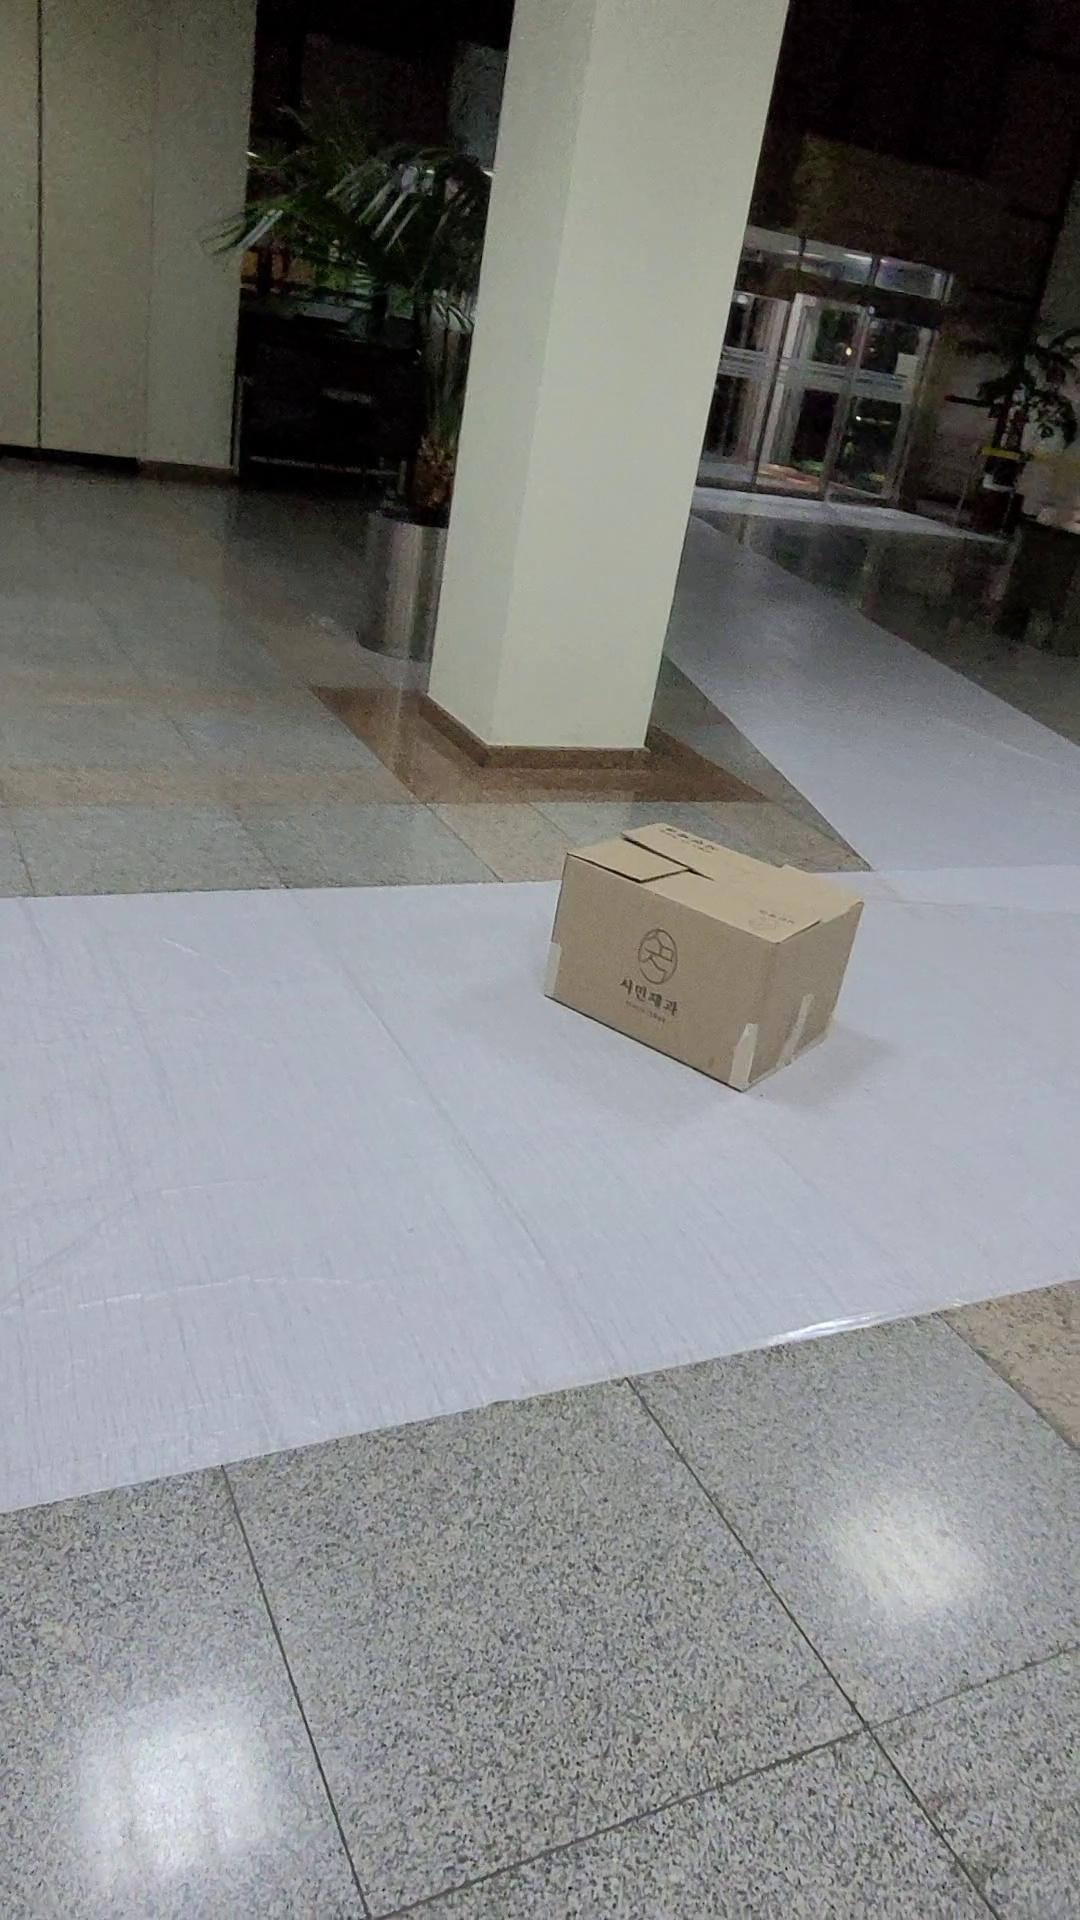Box: (521, 798, 907, 1127)
